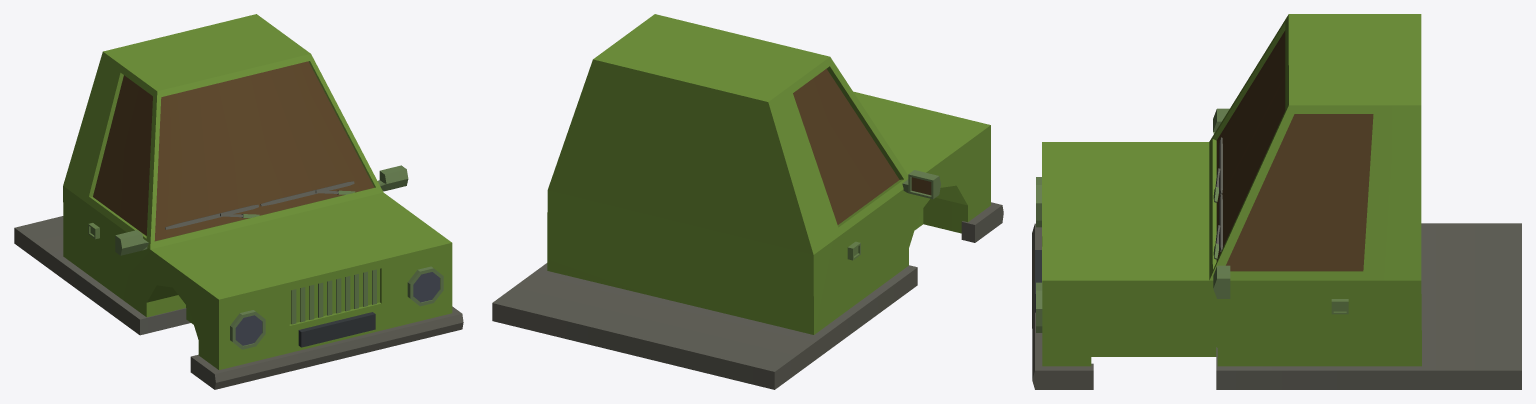
Rendered from Car_32.fbx.
3 renders of one model, left to right at view 1: azimuth 30°, elevation 25°; view 2: azimuth 150°, elevation 25°; view 3: azimuth 270°, elevation 25°, orthographic. The views are drawn at different scales.
Parts seen in each view (by area): view 1: Car_32; view 2: Car_32; view 3: Car_32.
Part boxes in pixels (<box>): Car_32: <box>14,14,463,389</box>; Car_32: <box>492,14,1003,389</box>; Car_32: <box>1032,14,1521,389</box>.
Bounding box in the file's own units: 2.4 × 1.69 × 2.92.
